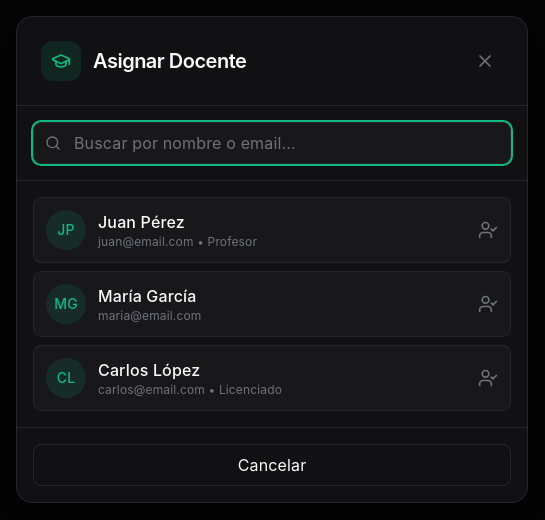
Test: AsignarDocenteModal › Búsqueda › muestra mensaje cuando no hay resultados de búsqueda
Expected: the text "Juan Pérez" is shown, [98,212,185,232]
Type "xyz" into the field with placeholder "Buscar por nombre o email..." at (272, 142), box [33,122,511,164]
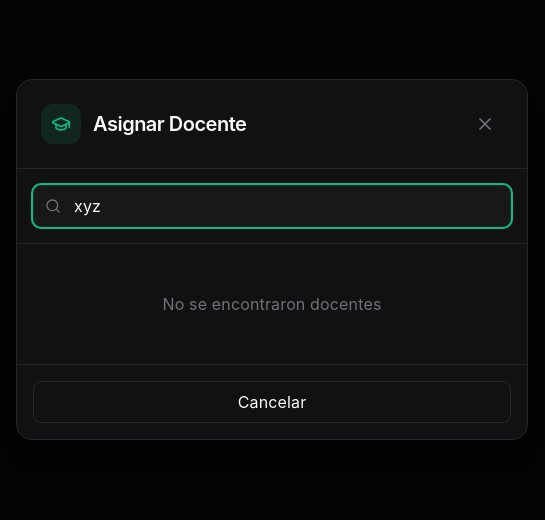
Expected: the text "No se encontraron docentes" is shown, [162,294,382,314]
